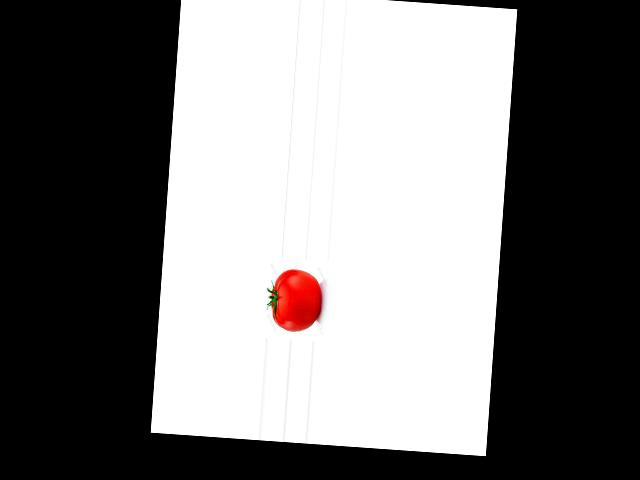tomato: (269, 267, 322, 333)
